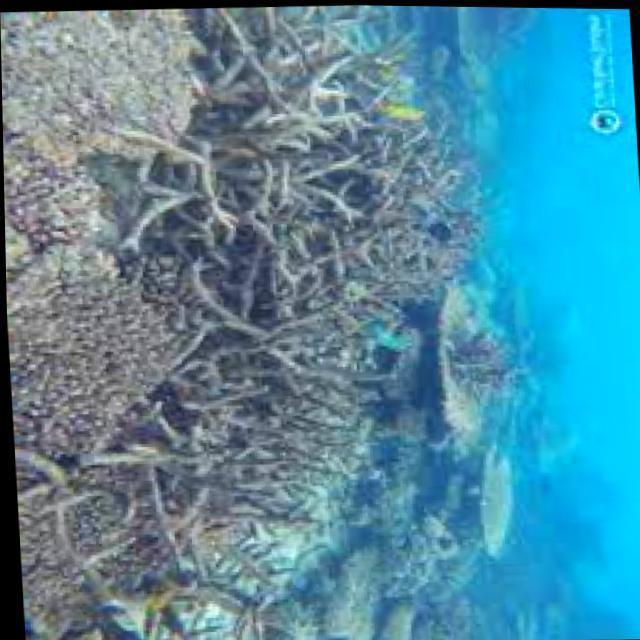Dead Coral: (0, 8, 207, 630), (120, 19, 463, 350), (124, 326, 379, 599)
